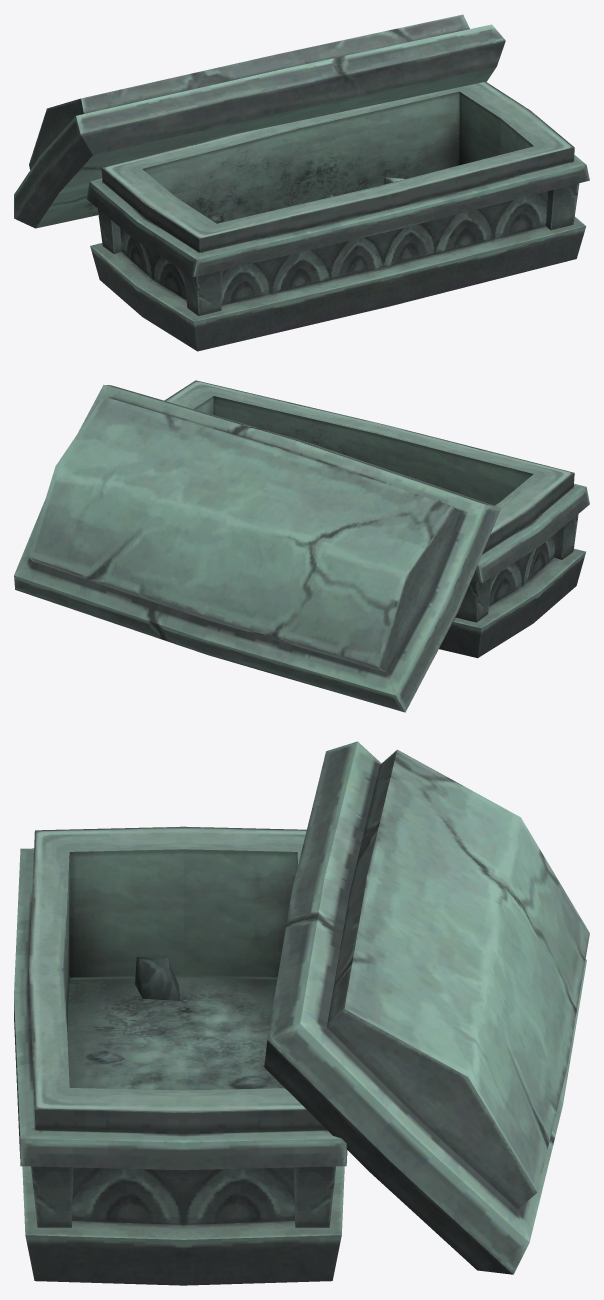
Rendered from crypt_tomb_opened06.fbx.
The picture shows the model from 3 angles, top to bottom: view 1: azimuth 30°, elevation 25°; view 2: azimuth 150°, elevation 25°; view 3: azimuth 270°, elevation 25°; orthographic projection. The views are drawn at different scales.
Visible parts, largest first — view 1: tomb_muti/tomb_stonework; view 2: tomb_muti/tomb_stonework; view 3: tomb_muti/tomb_stonework.
Boxes of the visible parts, x1,y1,x2,y2 form: tomb_muti/tomb_stonework: [14, 14, 589, 351]; tomb_muti/tomb_stonework: [14, 380, 589, 712]; tomb_muti/tomb_stonework: [14, 741, 589, 1285].
Bounding box in the file's own units: 2.95 × 1.16 × 2.3.
